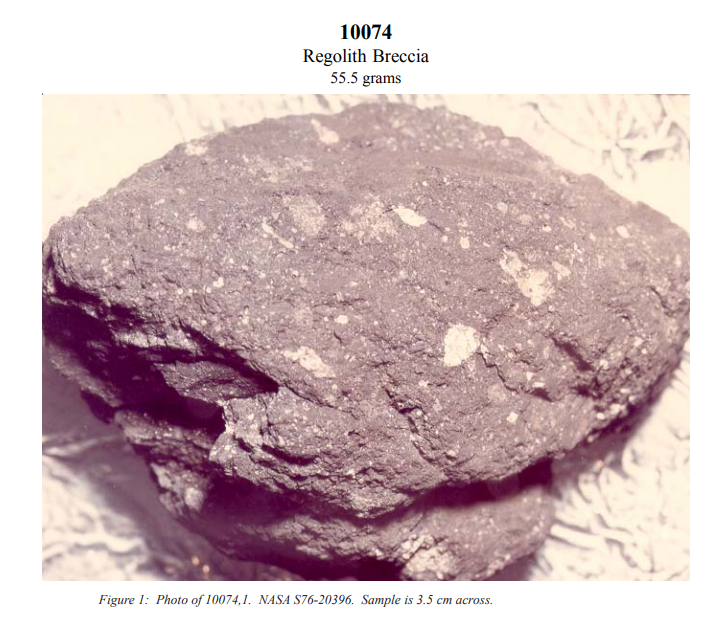Breccia: (41, 97, 673, 562), (91, 249, 544, 578), (196, 209, 586, 501)
